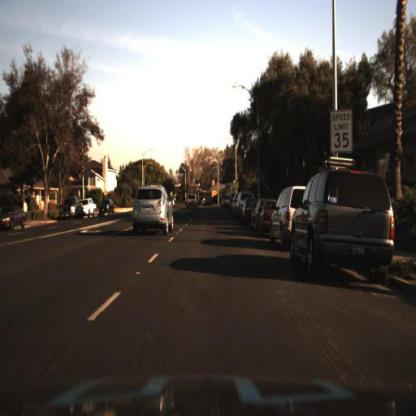car: (293, 163, 398, 276), (268, 183, 312, 252), (132, 182, 175, 238), (56, 196, 86, 227), (1, 204, 28, 234), (59, 197, 84, 220), (98, 197, 117, 220), (82, 196, 99, 221), (204, 194, 217, 213), (185, 195, 198, 213)
